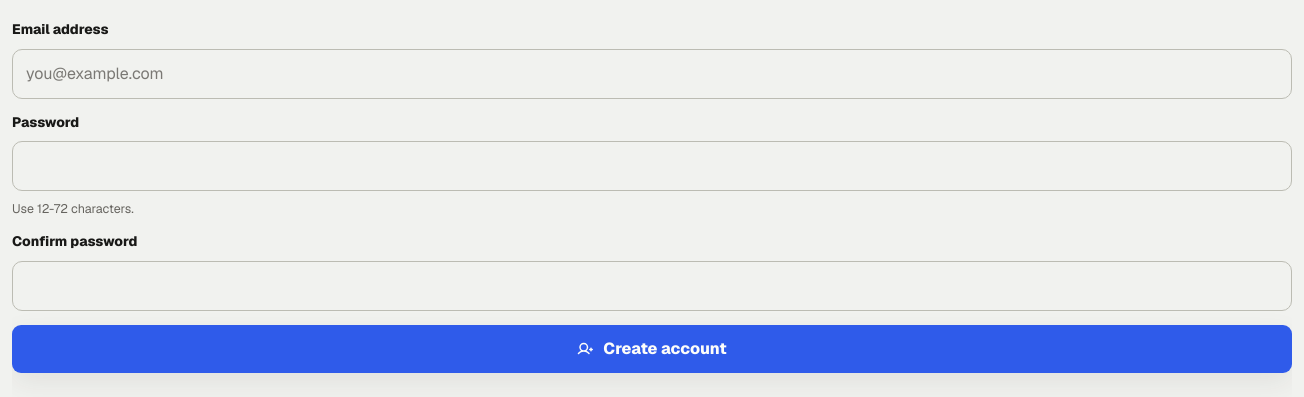
PasswordSignUpForm › offers a typed signup code next to the emailed link
Type "student@gmail.com" into the field labelled "Email address" at (652, 74), box [12,49,1292,99]
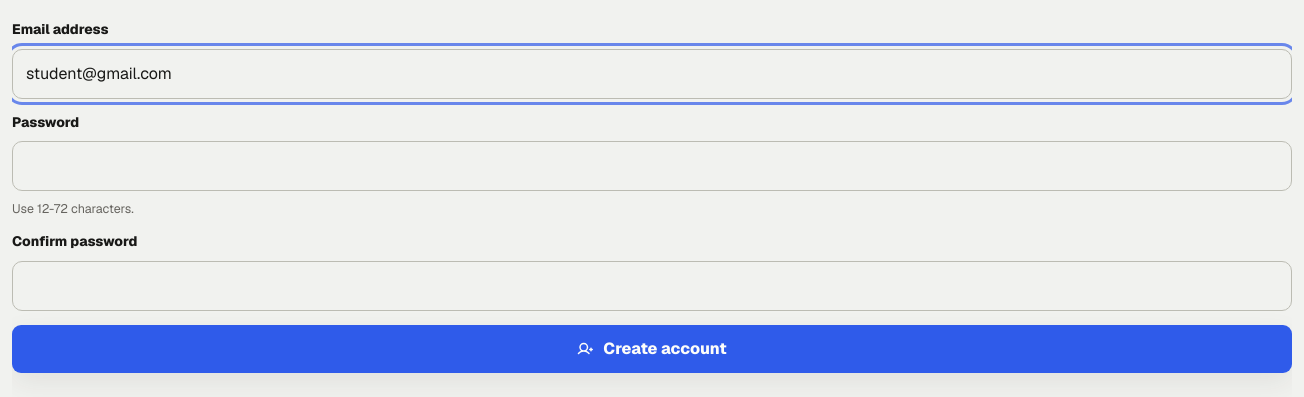
Type "three calm otters" into the password field labelled "Password" at (652, 166), box [12,141,1292,191]
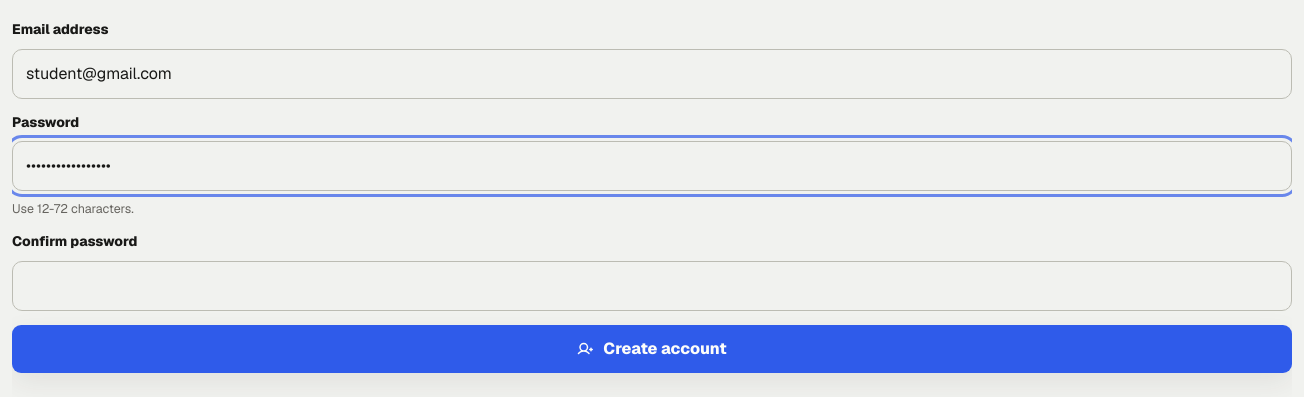
Type "three calm otters" into the password field labelled "Confirm password" at (652, 286), box [12,261,1292,311]
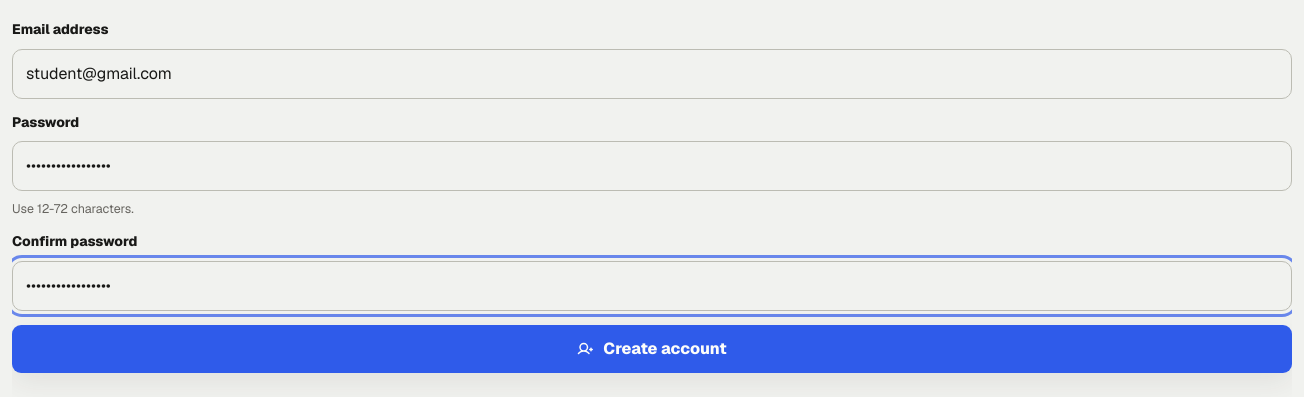
Click the button "Create account" at (652, 349), box [12,325,1292,373]
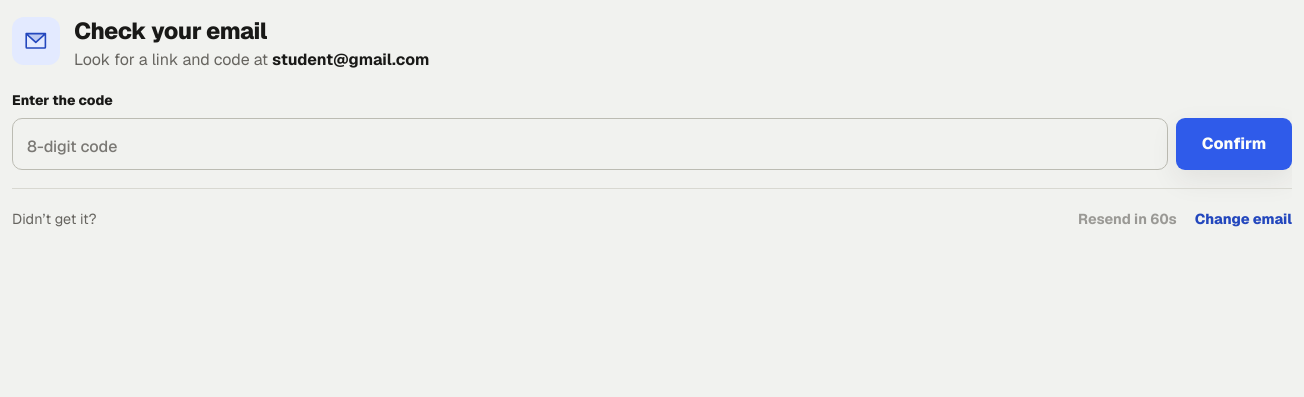
Result: the heading "Check your email" is shown at [74,16,267,46]
Type "1234 5678" into the field labelled "Enter the code" at (590, 144), box [12,118,1168,170]
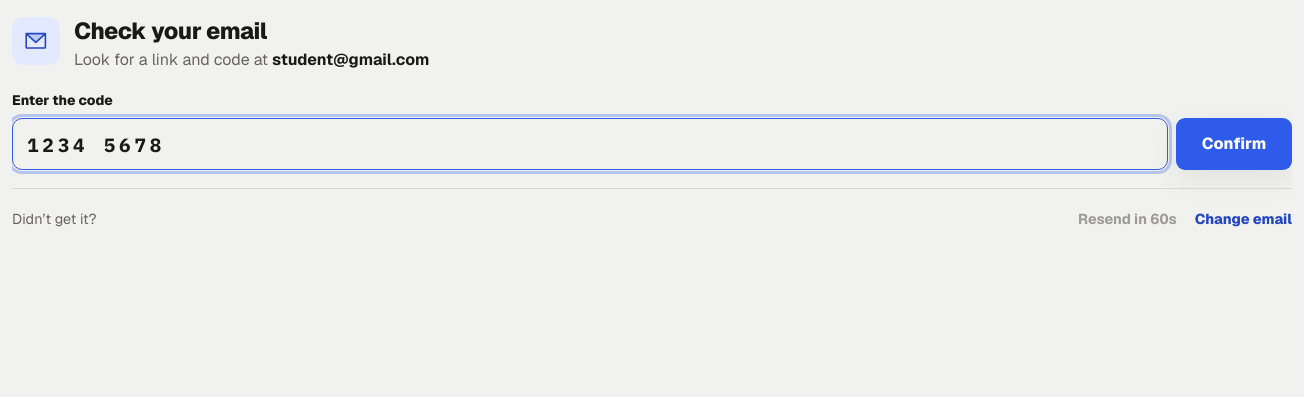
Click the button "Confirm" at (1234, 144), box [1176,118,1292,170]
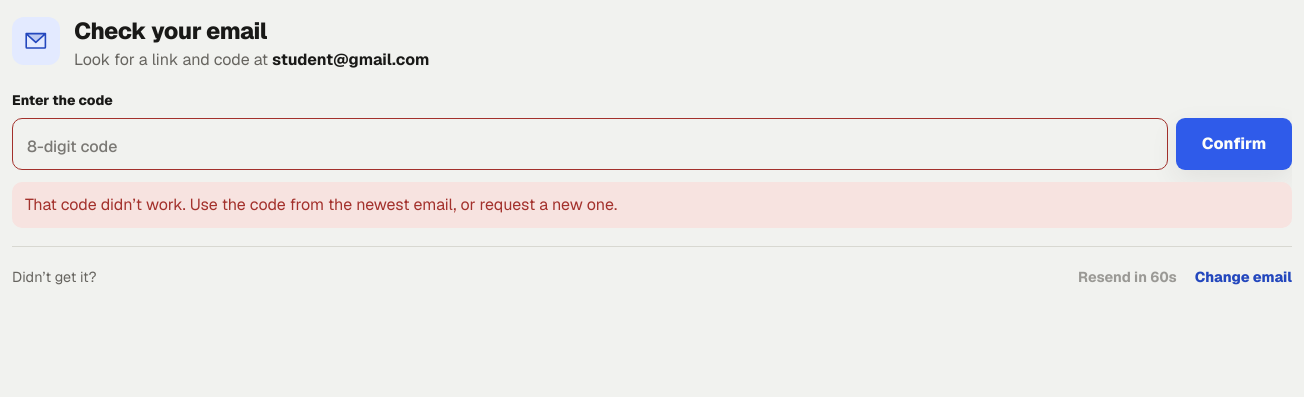
Result: the message shows "newest email" at [25,194,617,215]
